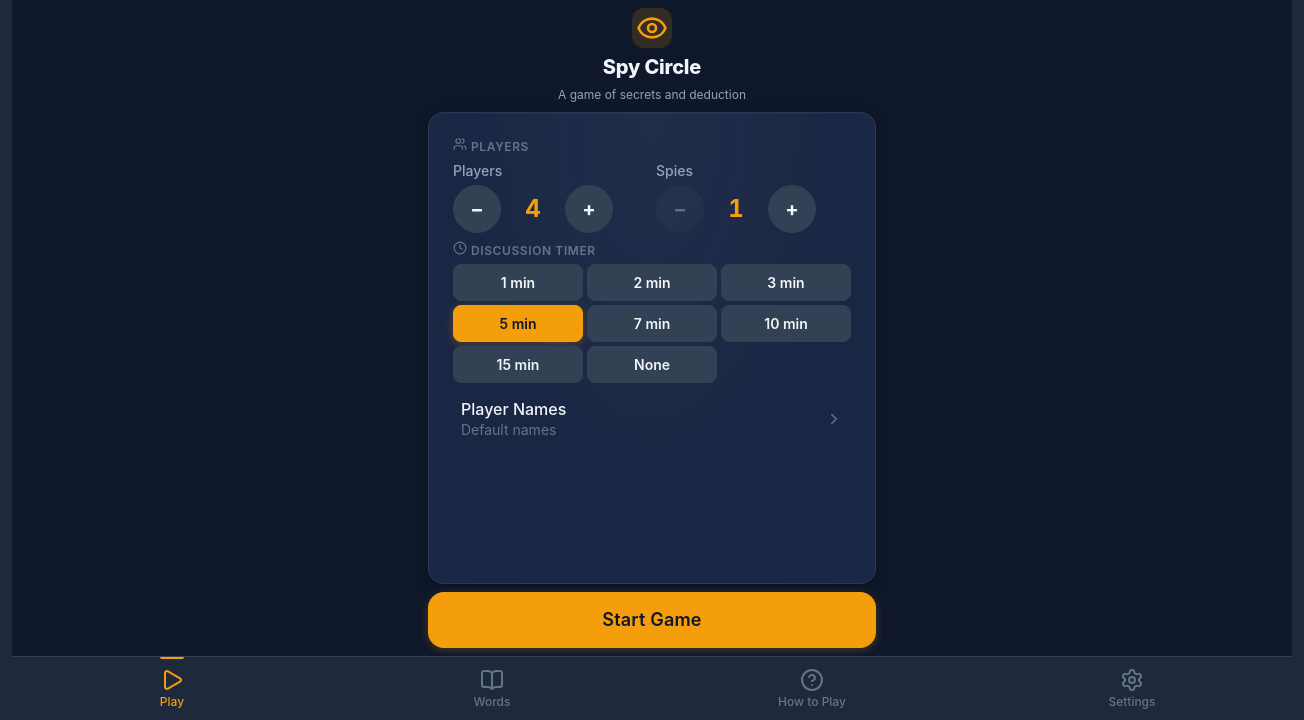
Scenario: App › navigates between all four tabs
This screenshot has width=1304, height=720.
Step 1. Click the button "Words" → (492, 688), box [332, 657, 652, 719]
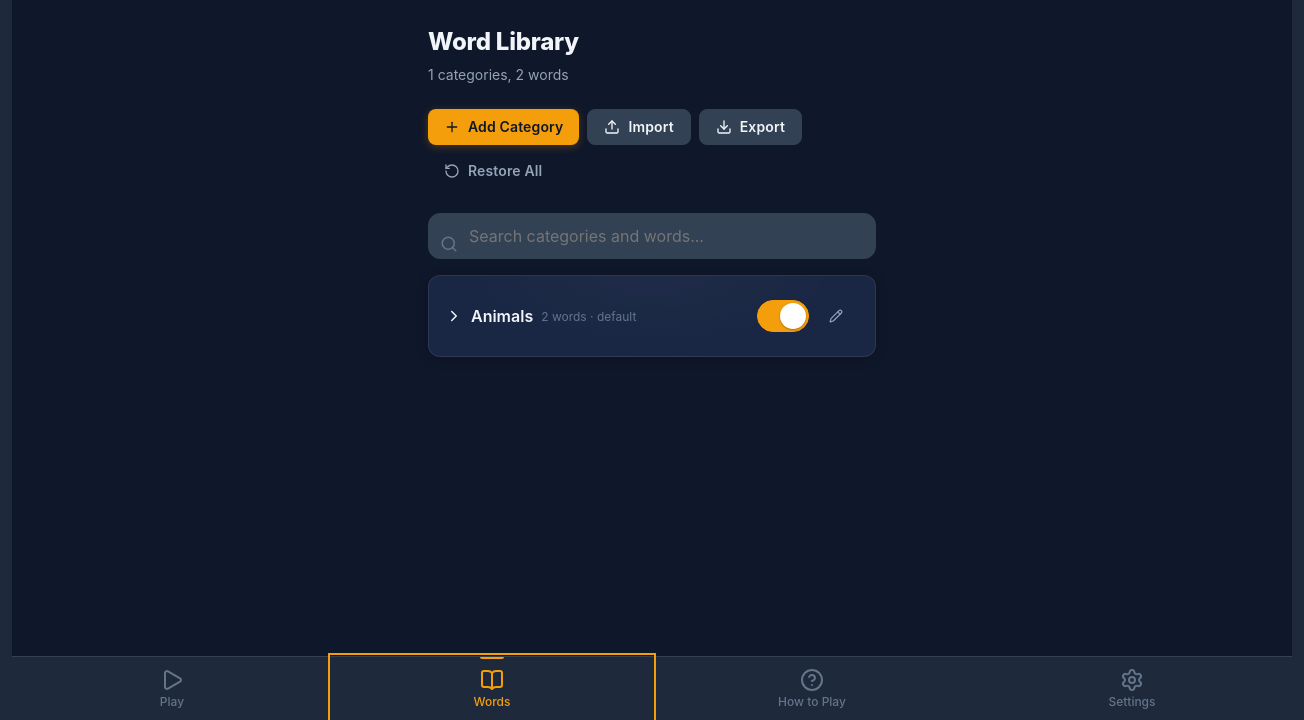
Expected: the heading "Word Library" is shown, [428, 27, 579, 56]
Step 2. Click the button "How to Play" → (812, 688), box [652, 657, 972, 719]
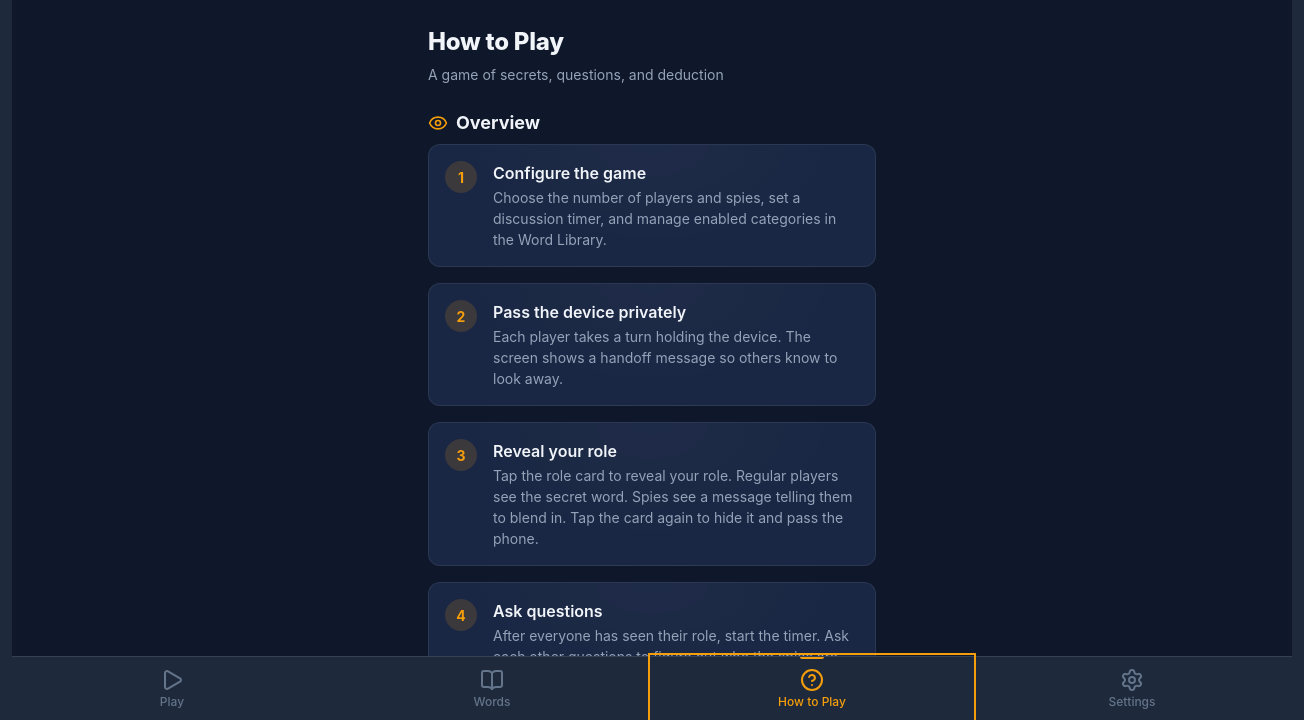
Expected: the heading "How to Play" is shown, [428, 27, 564, 56]
Step 3. Click the button "Settings" → (1132, 688), box [972, 657, 1292, 719]
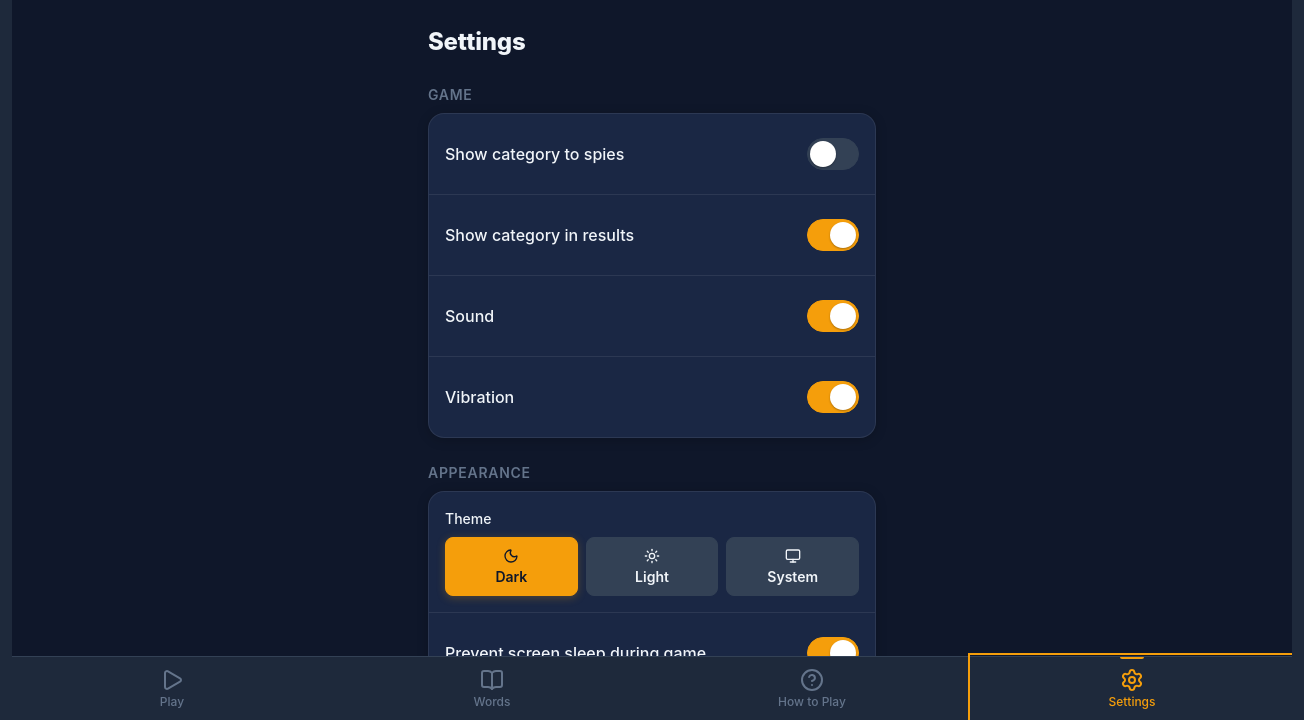
Expected: the heading "Settings" is shown, [428, 27, 526, 56]
Step 4. Click the button "Play" → (172, 688), box [12, 657, 332, 719]
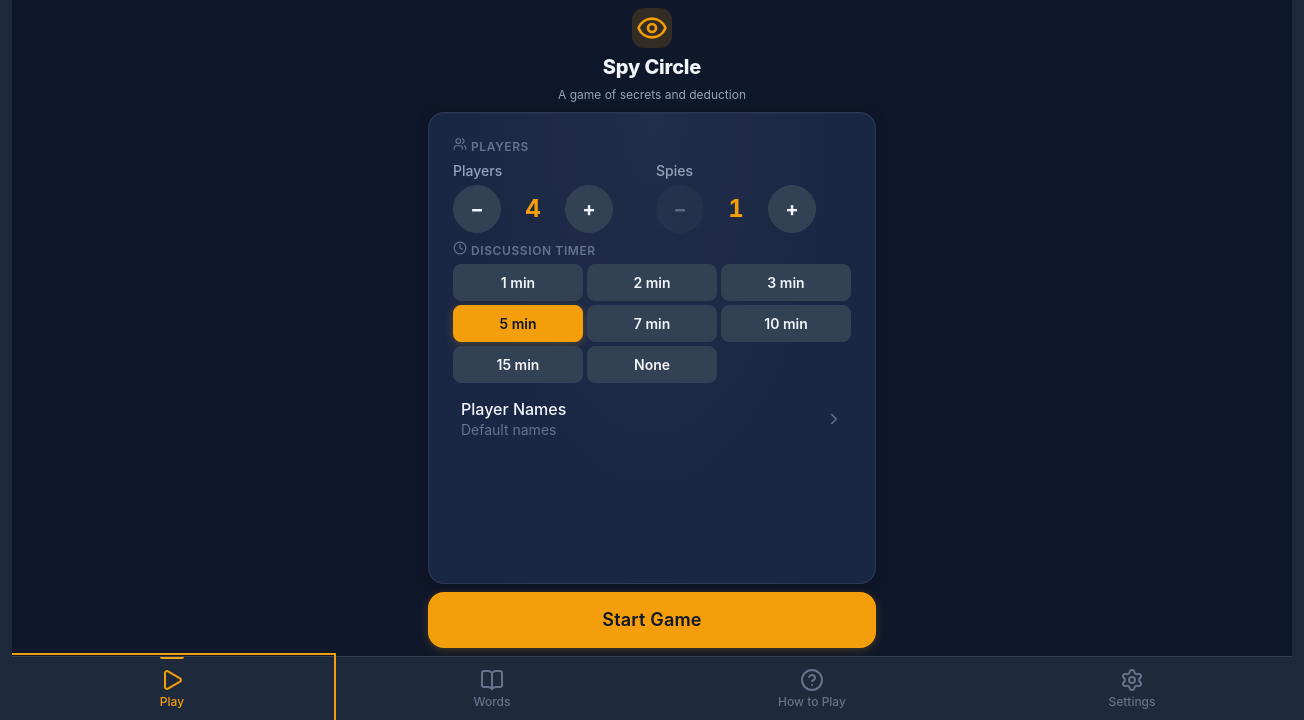
Expected: the button "Start Game" is shown, [428, 592, 876, 648]
